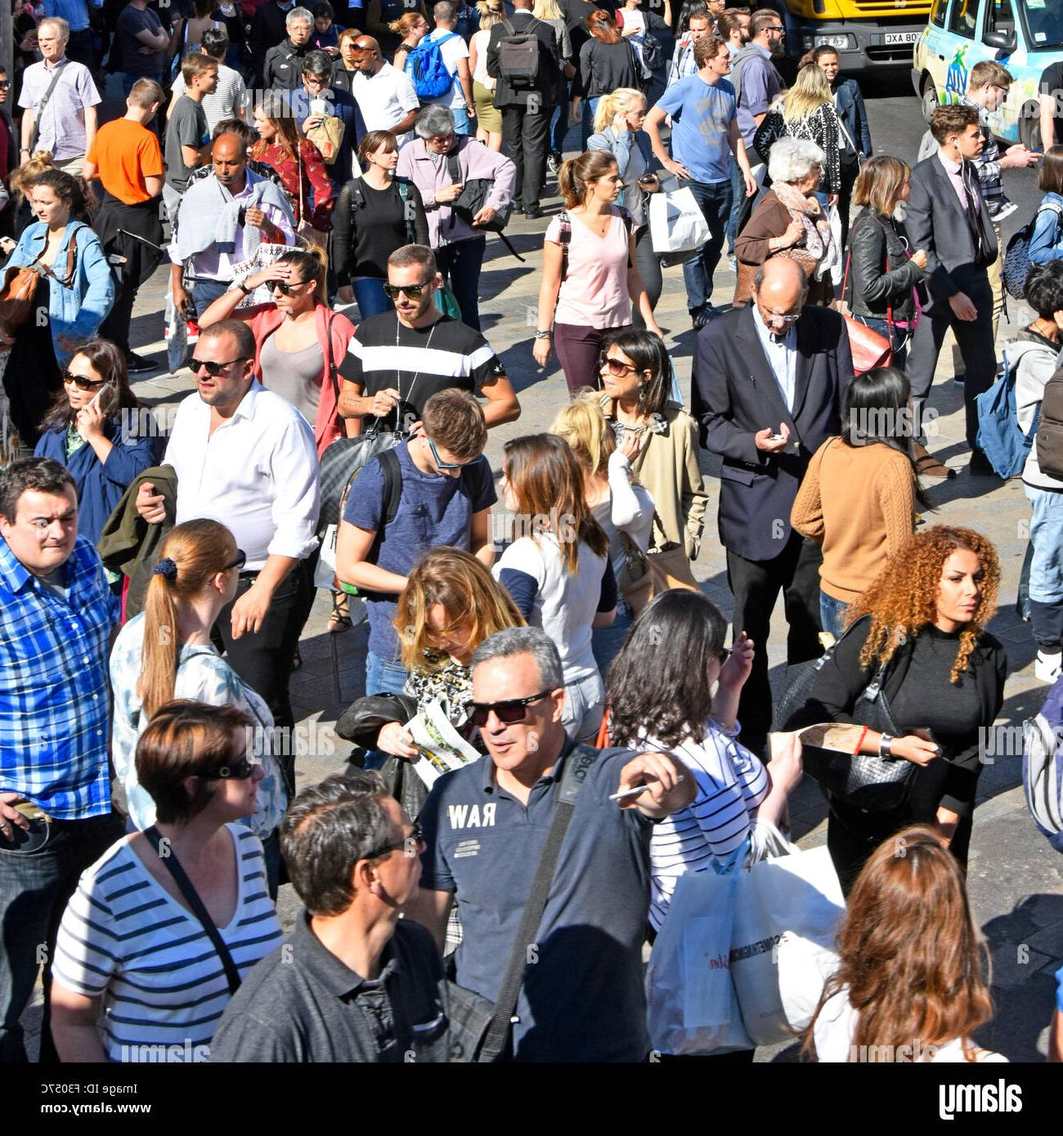jacket: (800, 632, 1026, 830), (687, 303, 852, 559), (896, 156, 1005, 315), (0, 220, 116, 362), (397, 134, 519, 253), (583, 127, 658, 234)
long sleeve shirt: (625, 703, 770, 933), (153, 386, 323, 580)
short sleeve shirt: (408, 747, 673, 1065), (50, 818, 284, 1063), (210, 910, 447, 1062), (0, 534, 120, 817), (338, 446, 496, 650), (338, 315, 507, 448), (542, 208, 642, 327), (14, 56, 105, 163), (654, 77, 740, 181), (88, 115, 166, 207), (352, 66, 422, 154), (163, 100, 215, 184), (415, 32, 474, 104)
sweater: (790, 433, 917, 604), (331, 179, 428, 284)
trousers: (903, 297, 1000, 445), (1014, 477, 1063, 647), (676, 172, 734, 315), (420, 233, 490, 339), (549, 319, 635, 399)
vest: (255, 330, 334, 431)
